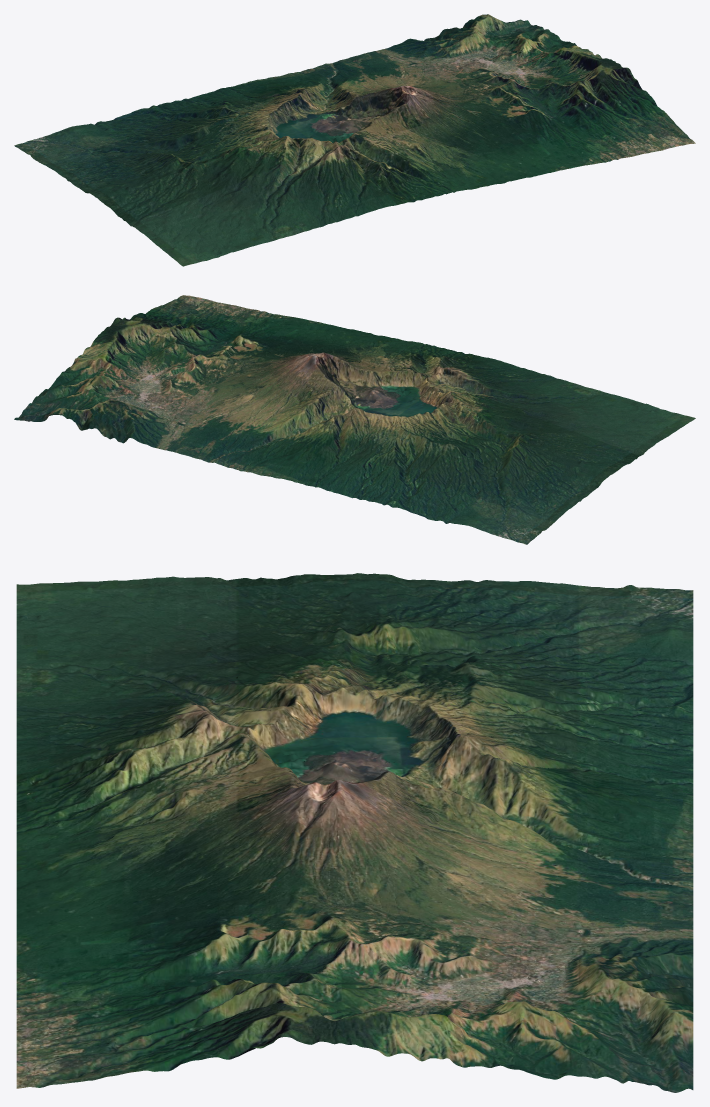
The model's file is mount-rinjani.glb.
3 views of the same model, one above another, from view 1: azimuth 30°, elevation 25°; view 2: azimuth 150°, elevation 25°; view 3: azimuth 270°, elevation 25° (orthographic). The views are drawn at different scales.
Visible parts, largest first — view 1: EXPORT_GOOGLE_SAT_WM; view 2: EXPORT_GOOGLE_SAT_WM; view 3: EXPORT_GOOGLE_SAT_WM.
Boxes of the visible parts, <box> form: EXPORT_GOOGLE_SAT_WM: <box>14,14,695,266</box>; EXPORT_GOOGLE_SAT_WM: <box>14,295,695,544</box>; EXPORT_GOOGLE_SAT_WM: <box>16,573,693,1092</box>.
Size of the model in its own units: 1.86 by 0.1816 by 1.06.
1 material, 1 textured.
